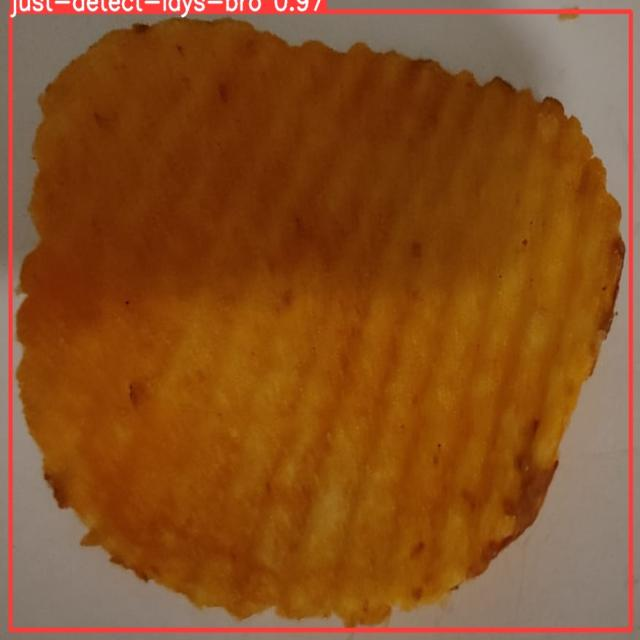Wet Waste: (24, 27, 626, 622)
